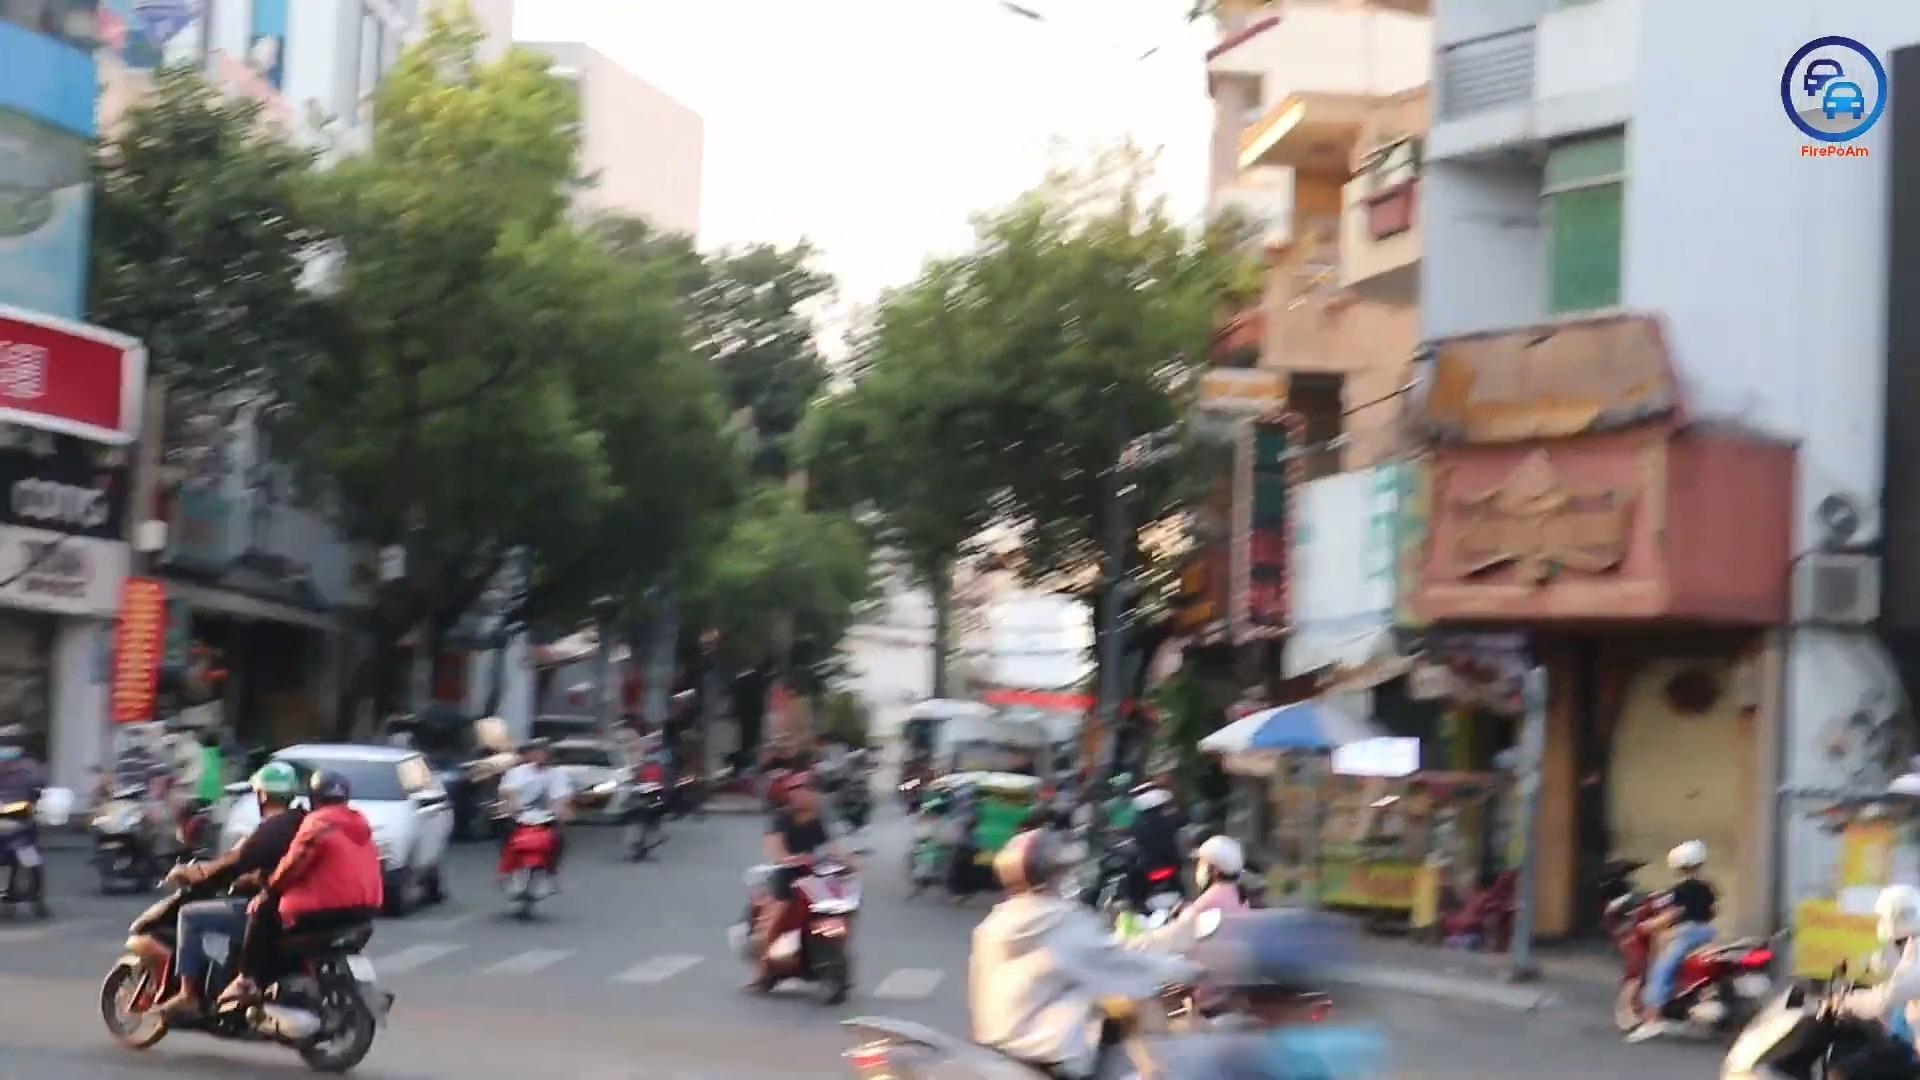bien_so: (345, 953, 379, 983)
